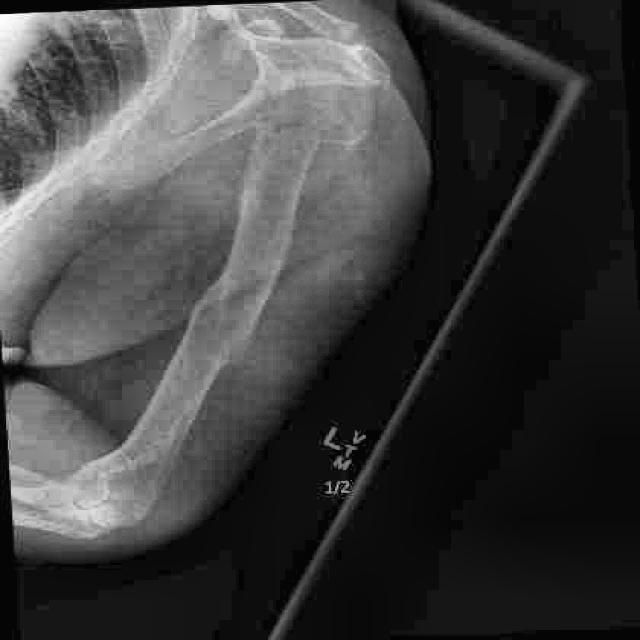humerus: (112, 249, 313, 419)
